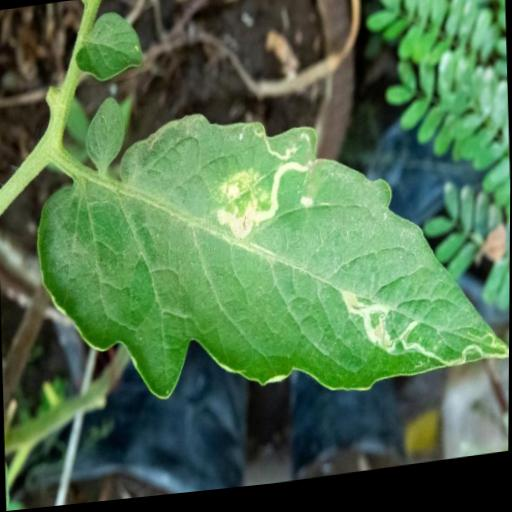Leaf_Miner: (30, 76, 511, 441)
